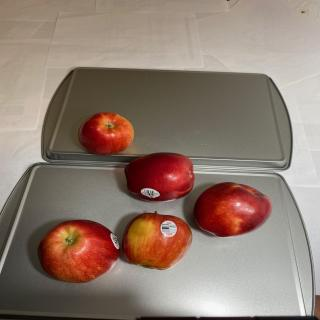Apple: (37, 219, 120, 284), (193, 182, 272, 238), (121, 210, 192, 270), (124, 152, 195, 202), (78, 112, 134, 155)
